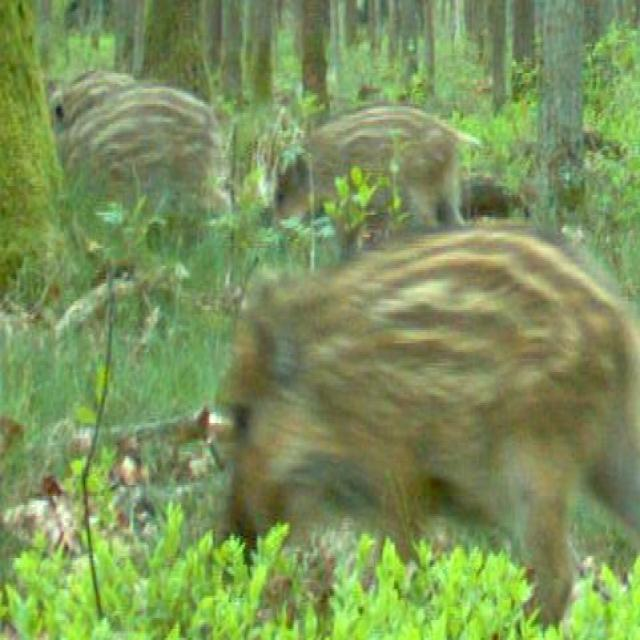pig: (210, 220, 640, 566), (222, 66, 490, 271), (56, 85, 230, 235), (42, 51, 136, 123)
